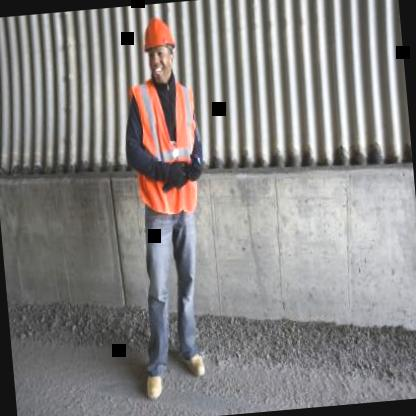helmet: (136, 8, 183, 87)
